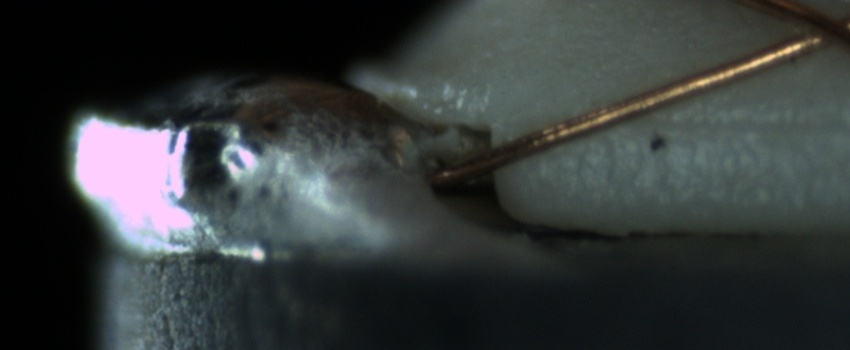CL: (770, 3, 850, 59)
DL: (623, 95, 845, 153)
